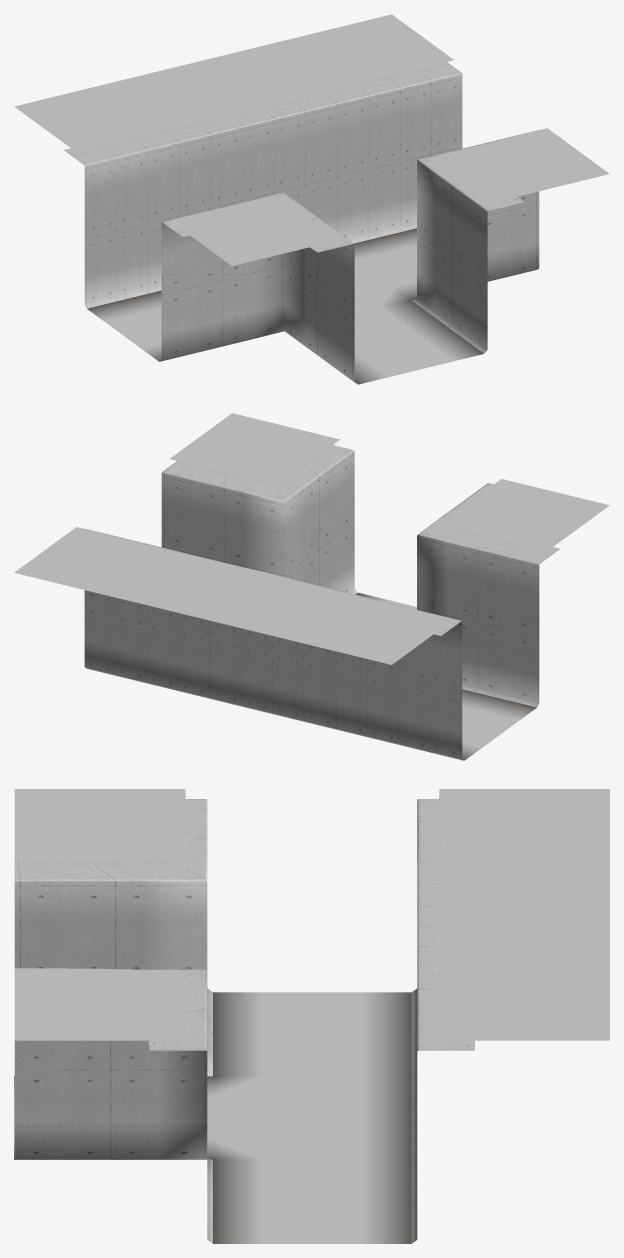
Rendered from Tjiro.fbx.
The picture shows the model from 3 angles, top to bottom: view 1: azimuth 30°, elevation 25°; view 2: azimuth 150°, elevation 25°; view 3: azimuth 270°, elevation 25°; orthographic projection. The views are drawn at different scales.
Visible parts, largest first — view 1: polySurface24, polySurface12, blockA13, blockA12, polySurface25, pPlane1 (×2); view 2: polySurface24, polySurface12, blockA12, blockA13, pPlane1 (×2), polySurface25; view 3: polySurface25, polySurface12, blockA12, pPlane1 (×2), blockA13, polySurface24.
Boxes of the visible parts, left/top/right/bottom form: polySurface24: left=64, top=62, right=462, bottom=308; polySurface12: left=14, top=14, right=453, bottom=152; blockA13: left=160, top=192, right=356, bottom=383; blockA12: left=411, top=130, right=539, bottom=353; polySurface25: left=87, top=228, right=483, bottom=384; pPlane1 (×2): left=170, top=128, right=609, bottom=265; polySurface24: left=84, top=528, right=463, bottom=760; polySurface12: left=14, top=527, right=453, bottom=664; blockA12: left=161, top=445, right=357, bottom=594; blockA13: left=417, top=483, right=560, bottom=707; pPlane1 (×2): left=170, top=413, right=609, bottom=550; polySurface25: left=87, top=592, right=536, bottom=760; polySurface25: left=14, top=992, right=411, bottom=1243; polySurface12: left=437, top=789, right=609, bottom=1040; blockA12: left=14, top=969, right=212, bottom=1243; pPlane1 (×2): left=14, top=789, right=185, bottom=1040; blockA13: left=14, top=799, right=212, bottom=1076; polySurface24: left=411, top=799, right=474, bottom=1243.
Size of the model in its own units: 900 by 339 by 901.
